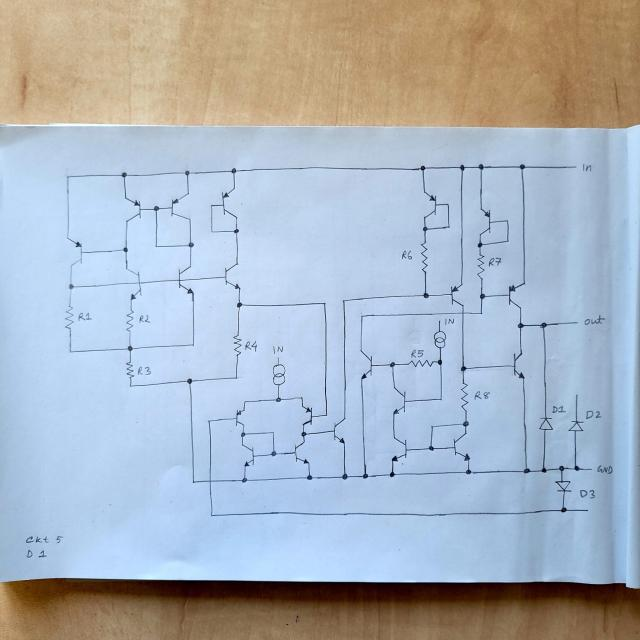crossover: (207, 478, 213, 484), (461, 311, 465, 315)
diode: (567, 418, 584, 436), (538, 416, 556, 432), (554, 480, 572, 492)
junction: (477, 290, 486, 301), (538, 321, 548, 330), (420, 224, 430, 233), (459, 363, 468, 372), (522, 466, 531, 475), (557, 463, 566, 472), (516, 320, 524, 330), (185, 376, 193, 385), (120, 170, 128, 179), (340, 472, 349, 480), (234, 300, 243, 308), (125, 344, 133, 352), (518, 162, 526, 170), (305, 473, 313, 481), (269, 450, 277, 458), (559, 505, 567, 513), (67, 282, 75, 290), (388, 470, 396, 478), (418, 164, 426, 172), (183, 168, 191, 176), (388, 360, 396, 368), (64, 172, 72, 180), (152, 204, 160, 212), (572, 464, 580, 472), (540, 466, 548, 474), (187, 240, 194, 248), (229, 167, 237, 174), (121, 246, 129, 253), (240, 476, 248, 483), (274, 396, 282, 403), (232, 228, 240, 235), (464, 468, 472, 475), (362, 472, 369, 479), (462, 420, 469, 427), (476, 241, 483, 248), (459, 164, 465, 172), (422, 292, 430, 298), (478, 163, 484, 171), (321, 300, 328, 306), (153, 243, 160, 249), (190, 479, 197, 485), (323, 411, 329, 418), (437, 358, 442, 366), (428, 445, 434, 451), (341, 298, 347, 304), (190, 342, 196, 348), (68, 348, 74, 354), (438, 396, 444, 402), (208, 512, 214, 518), (206, 418, 212, 424), (504, 218, 510, 224), (358, 313, 364, 319), (429, 423, 435, 429), (270, 429, 276, 435), (504, 238, 510, 244), (240, 431, 246, 437), (301, 431, 307, 437), (233, 375, 239, 380), (128, 382, 134, 387), (446, 224, 451, 229), (242, 399, 247, 404), (299, 395, 303, 400), (446, 202, 450, 206), (479, 312, 483, 316), (210, 204, 213, 208), (210, 230, 213, 233)
resistor: (418, 240, 429, 275), (459, 381, 470, 412), (474, 251, 486, 279), (63, 303, 75, 330), (124, 307, 135, 334), (232, 332, 242, 357), (124, 359, 135, 379), (407, 359, 434, 367)
terminal: (572, 392, 580, 399), (572, 320, 579, 326), (586, 466, 592, 472), (436, 317, 441, 324), (572, 164, 577, 170), (583, 508, 589, 513), (275, 355, 280, 360)
text: (583, 314, 606, 326), (578, 488, 596, 500), (244, 339, 258, 352), (136, 364, 151, 376), (584, 409, 602, 419), (596, 464, 614, 474), (550, 403, 566, 414), (474, 390, 491, 400), (77, 312, 93, 322), (488, 256, 502, 267), (410, 349, 424, 358), (401, 250, 413, 260), (138, 314, 150, 324), (580, 163, 592, 172), (272, 345, 284, 354), (444, 317, 455, 325)
transformer: (272, 361, 285, 387), (433, 331, 447, 350)
transistor: (64, 234, 85, 270), (124, 267, 145, 301), (169, 191, 192, 221), (122, 196, 145, 225), (505, 280, 526, 311), (218, 187, 238, 219), (509, 348, 528, 381), (450, 431, 470, 462), (174, 266, 194, 296), (390, 434, 410, 463), (476, 204, 493, 237), (358, 348, 374, 382), (390, 386, 408, 416), (223, 262, 242, 290), (421, 190, 439, 218), (292, 439, 310, 464), (448, 280, 464, 307), (240, 443, 256, 468), (333, 417, 346, 444), (300, 405, 313, 426), (233, 408, 246, 427)
